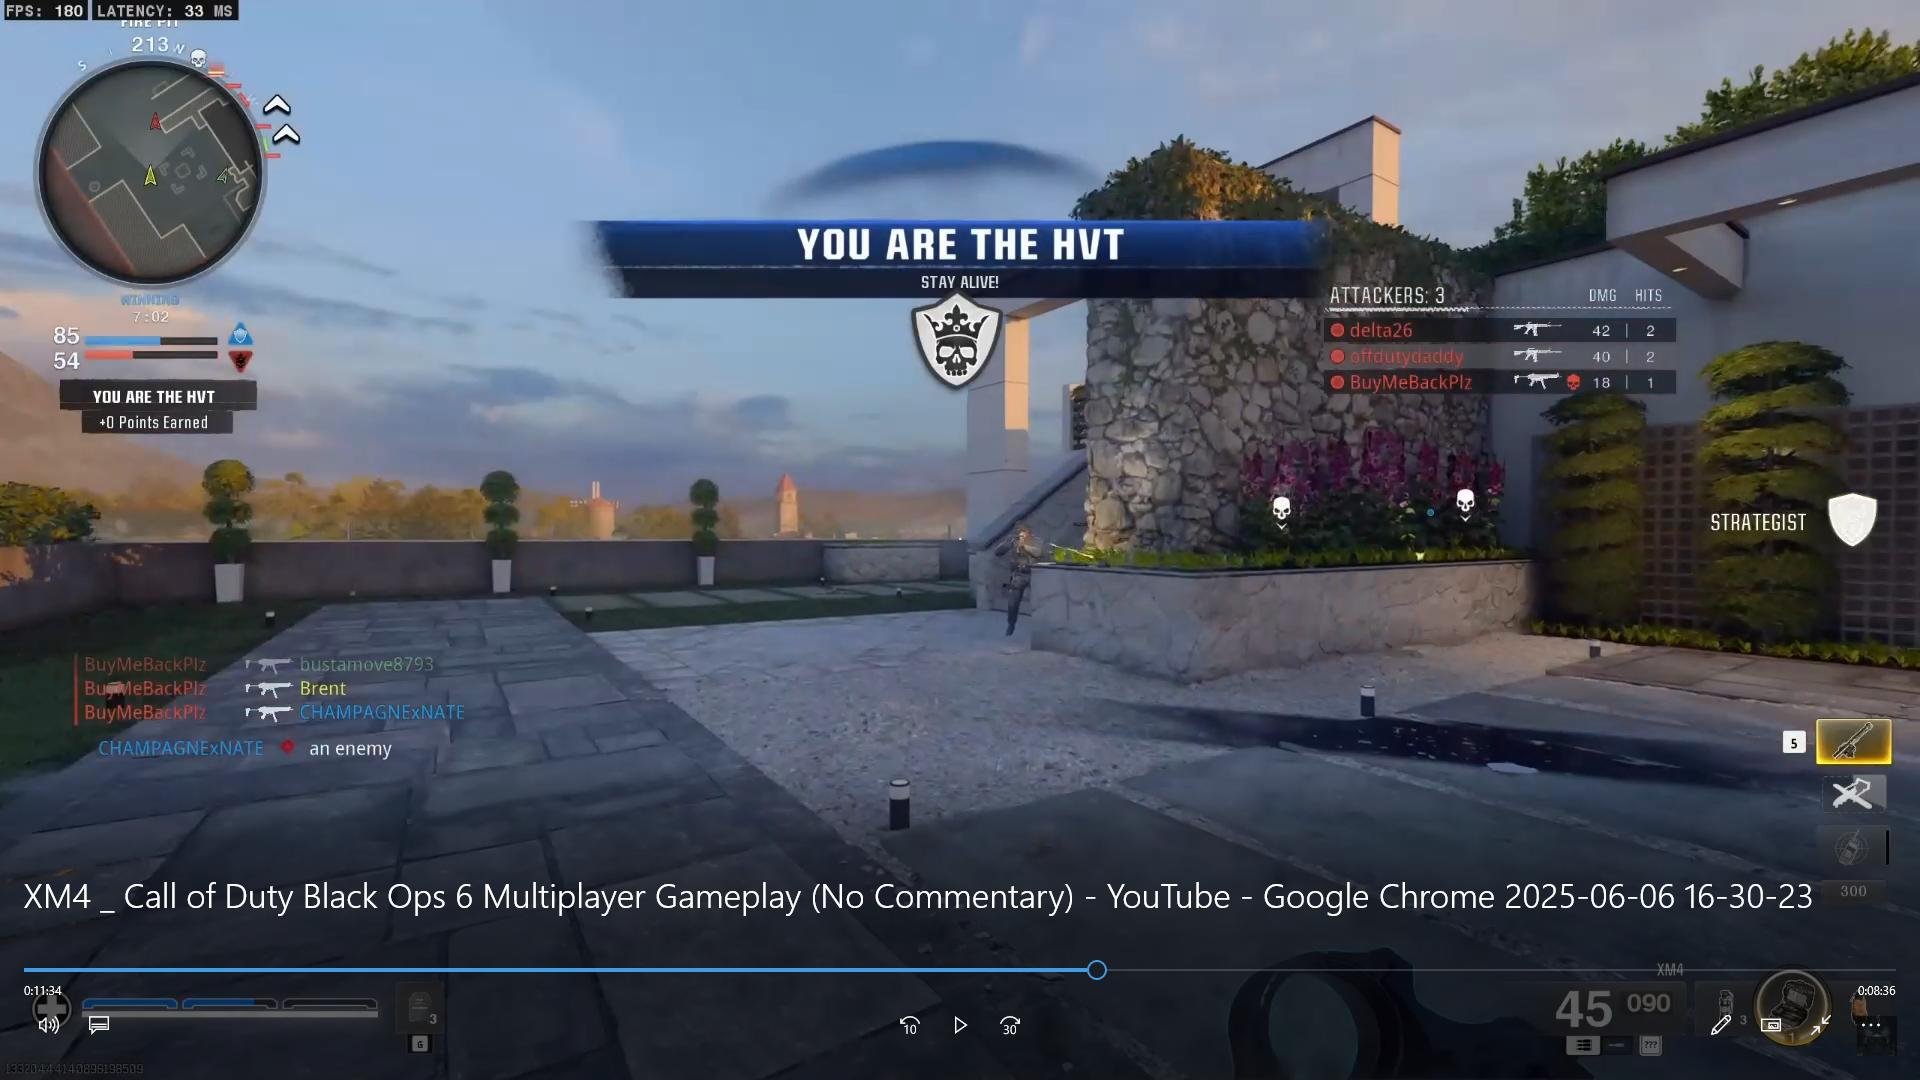Enemy: (997, 510, 1056, 633)
